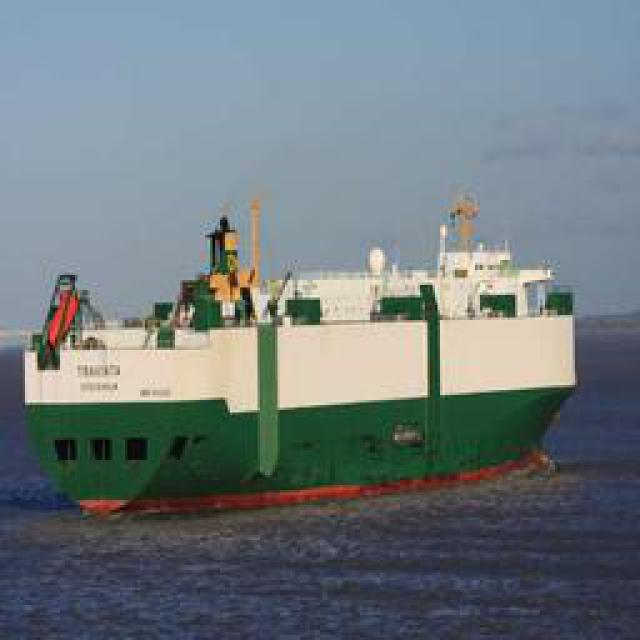Ship: (19, 201, 572, 509)
